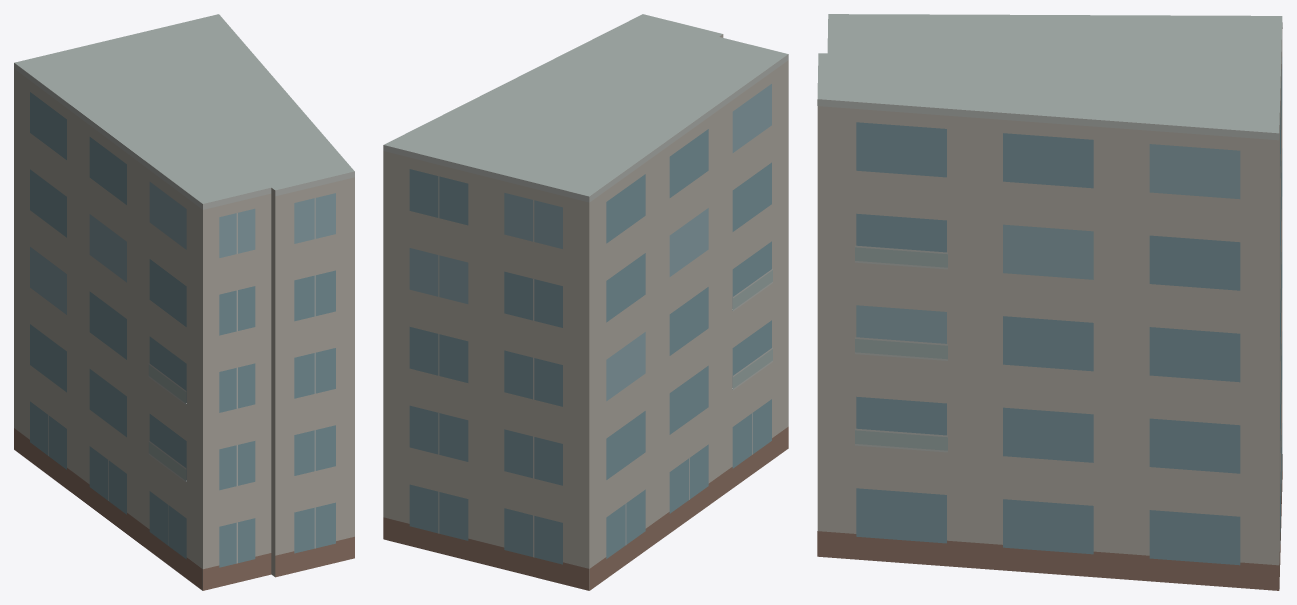
Rendered from survey-upis-32873713.glb.
3 renders of one model, left to right at view 1: azimuth 30°, elevation 25°; view 2: azimuth 150°, elevation 25°; view 3: azimuth 270°, elevation 25°, orthographic. The views are drawn at different scales.
Visible parts, largest first — view 1: survey-upis-32873713.tmp; view 2: survey-upis-32873713.tmp; view 3: survey-upis-32873713.tmp.
Boxes of the visible parts, <box> form: survey-upis-32873713.tmp: <box>14,14,354,590</box>; survey-upis-32873713.tmp: <box>383,14,788,590</box>; survey-upis-32873713.tmp: <box>817,14,1282,590</box>.
Bounding box in the file's own units: 8.98 × 16 × 14.75.
